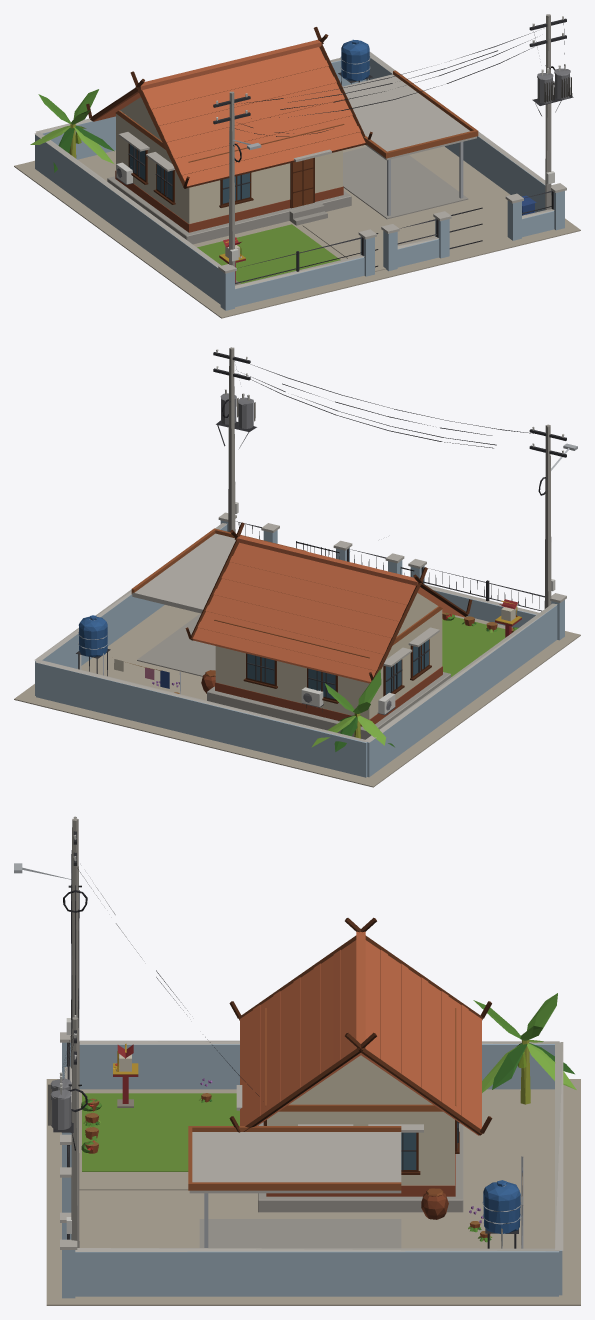
The model's file is home_1.glb.
The picture shows the model from 3 angles, top to bottom: view 1: azimuth 30°, elevation 25°; view 2: azimuth 150°, elevation 25°; view 3: azimuth 270°, elevation 25°; orthographic projection. The views are drawn at different scales.
Parts seen in each view (by area): view 1: body, windows; view 2: body, windows; view 3: body.
Boxes of the visible parts, x1=… form: body: x1=14, y1=14, x2=580, y2=318; windows: x1=129, y1=144, x2=249, y2=203; body: x1=14, y1=347, x2=580, y2=787; windows: x1=247, y1=640, x2=428, y2=699; body: x1=14, y1=816, x2=580, y2=1305.
Bounding box in the file's own units: 15.9 × 9.31 × 16.88.
